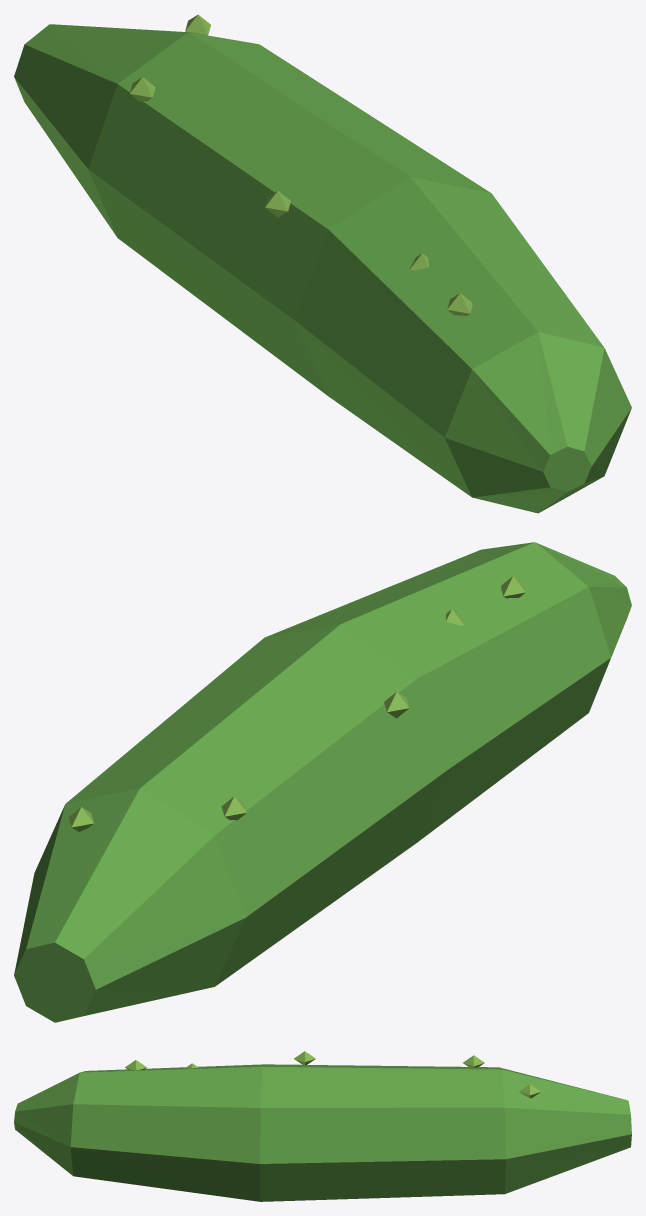
File: cucumber.glb
3 renders of one model, top to bottom at view 1: azimuth 30°, elevation 25°; view 2: azimuth 150°, elevation 25°; view 3: azimuth 270°, elevation 25°, orthographic. The views are drawn at different scales.
Visible parts, largest first — view 1: cucumber; view 2: cucumber; view 3: cucumber.
Part boxes in pixels (<box>): cucumber: <box>14,14,631,513</box>; cucumber: <box>14,542,631,1022</box>; cucumber: <box>14,1051,631,1201</box>.
Bounding box in the file's own units: 0.0537 × 0.052 × 0.2195.
